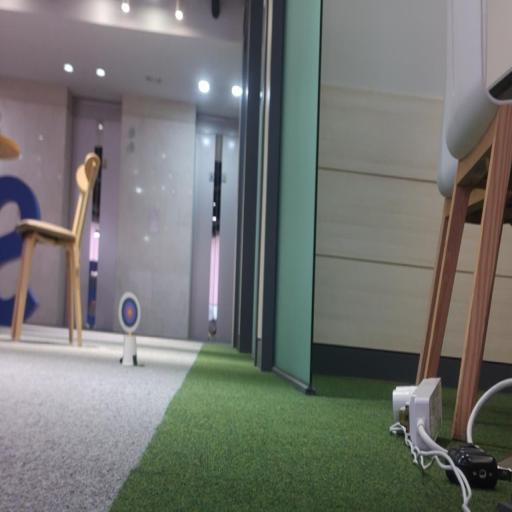target: (119, 292, 140, 332)
